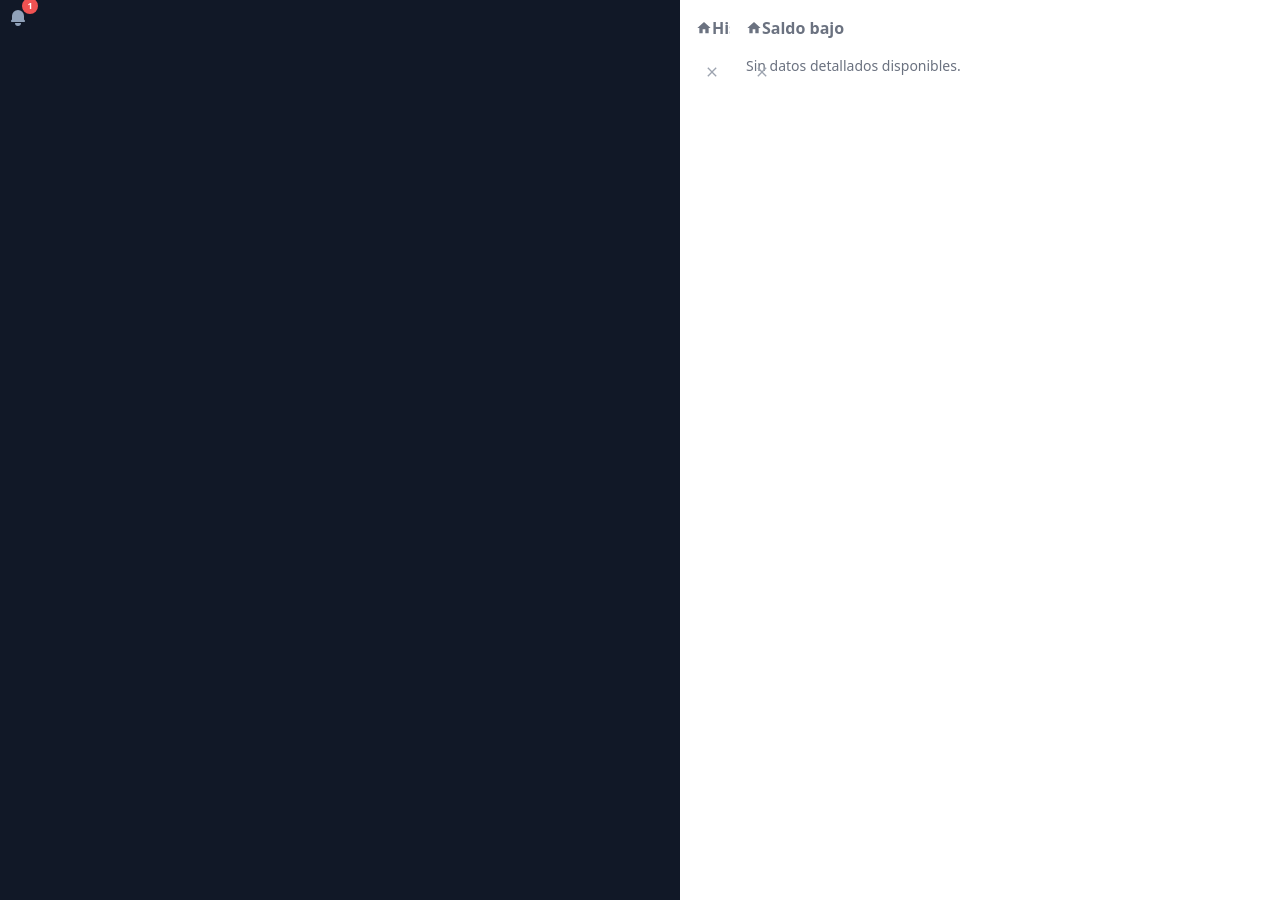
NotificationBell › opens dropdown on bell click and shows Notificaciones
Click the button "1" at point(18, 18), box [0, 0, 36, 36]
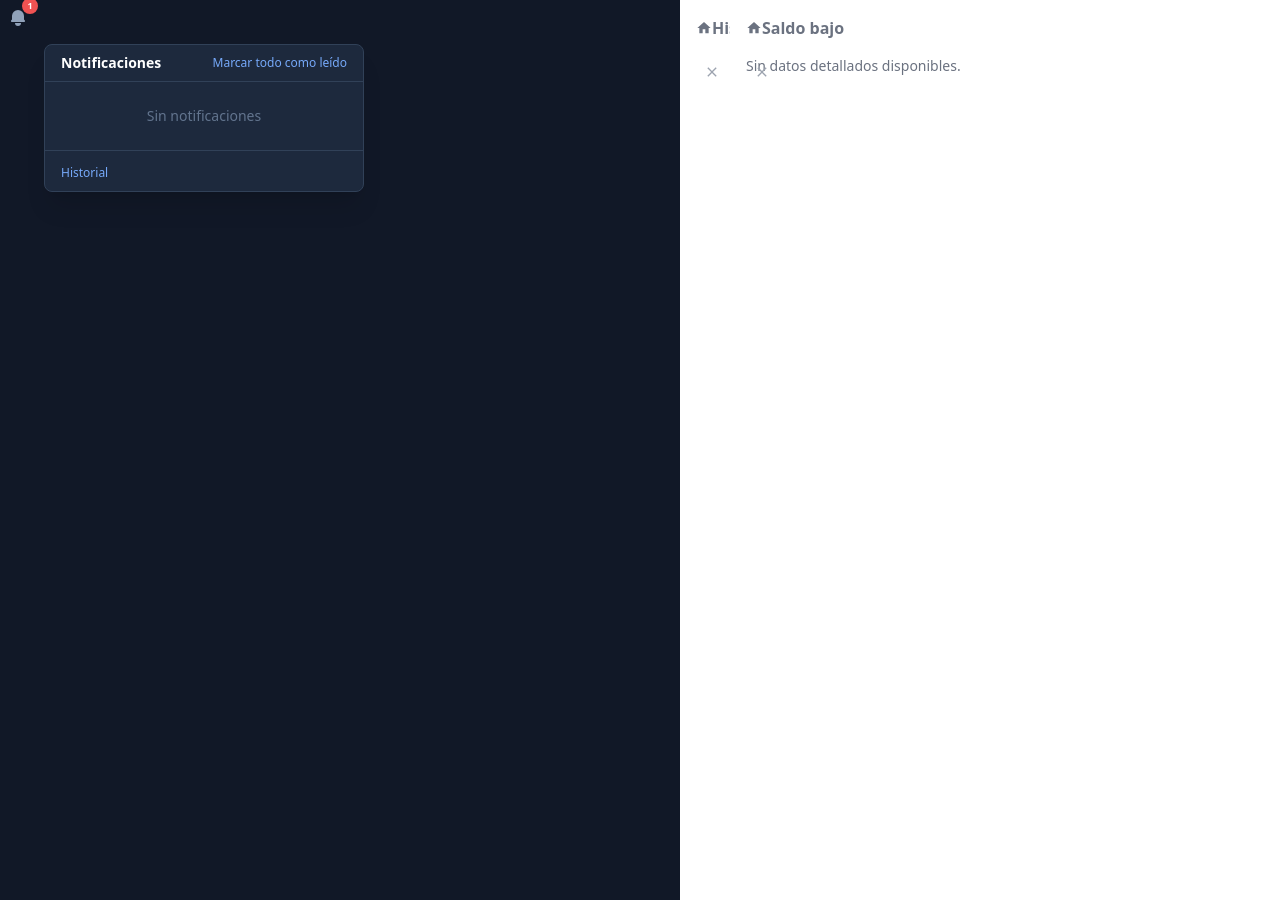
Now the text "Notificaciones" is shown, box [61, 53, 161, 73]
